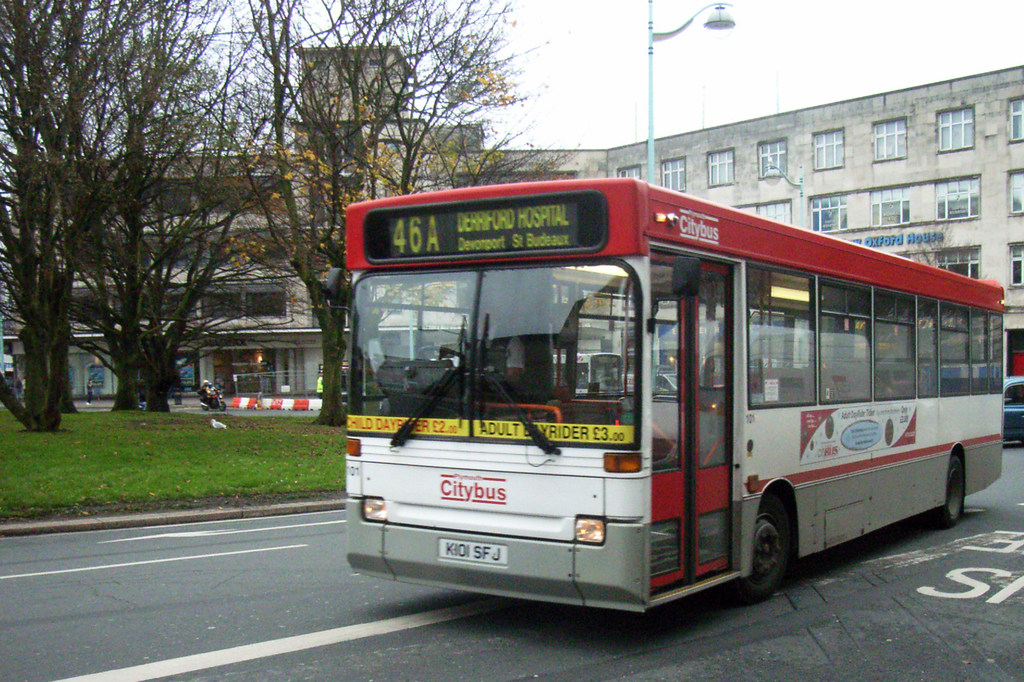Car: (1005, 371, 1023, 440)
